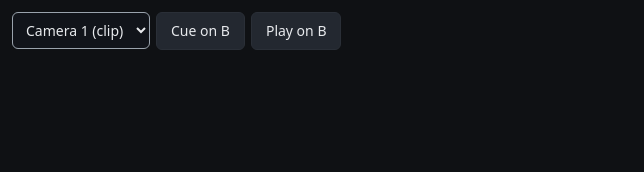
cueing a clip on player B › clears the player after a cue
The width and height of the screenshot is (644, 172).
Step 1. Click the button with aria-label "Cue Goal on B" → click(200, 31), box [156,12,245,50]
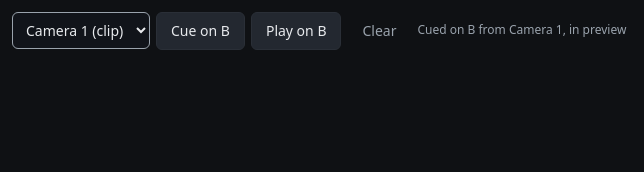
Step 2. Click the button with aria-label "Clear player B" → click(380, 31), box [348,12,412,50]
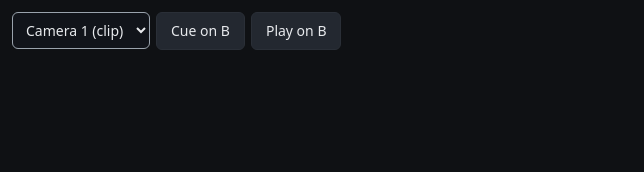
Now the message "Cued on B from Camera 1, in preview" is gone
